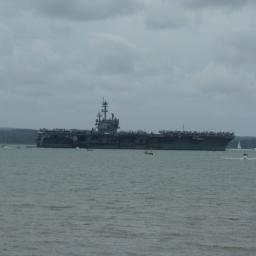Portanaves: (35, 99, 238, 153)
